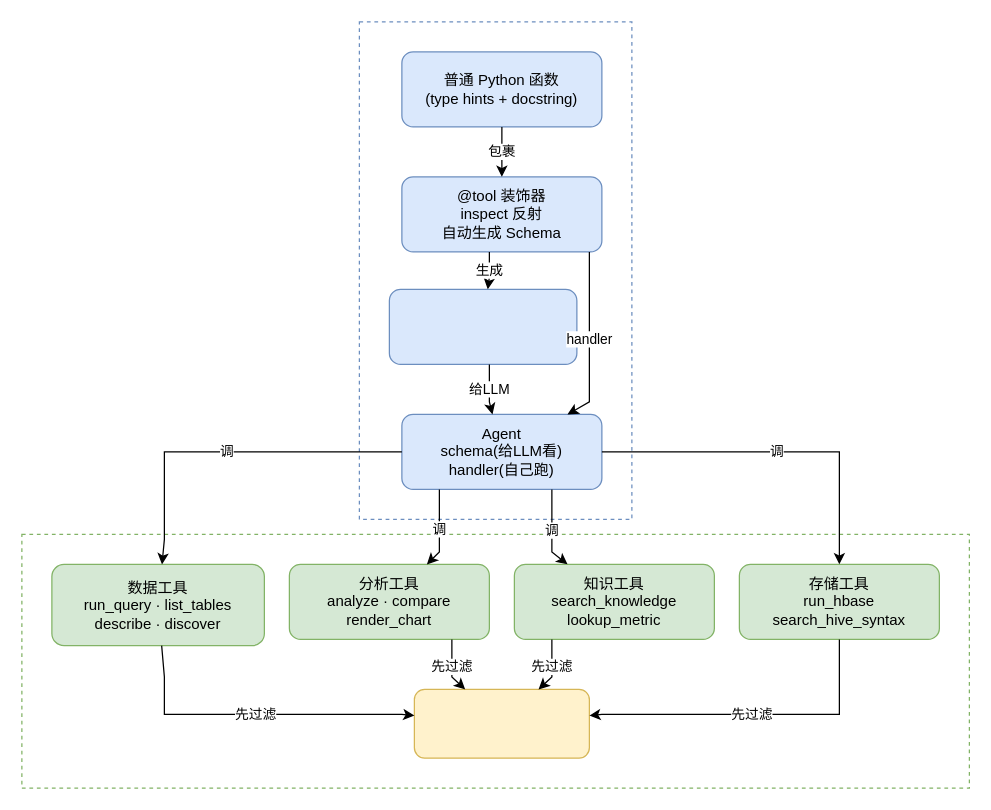
Some shapes in this 991 by 810 pixel diagram are drawn without their labels. The box of each missing label's shape, as (x1, y1, x2, y2) in pixels:
JSON Schema name/description input_schema: (388, 288, 577, 364)
工具定义: (358, 21, 632, 519)
工具执行: (21, 533, 969, 788)
权限过滤 entitlement 检查: (413, 688, 589, 758)
